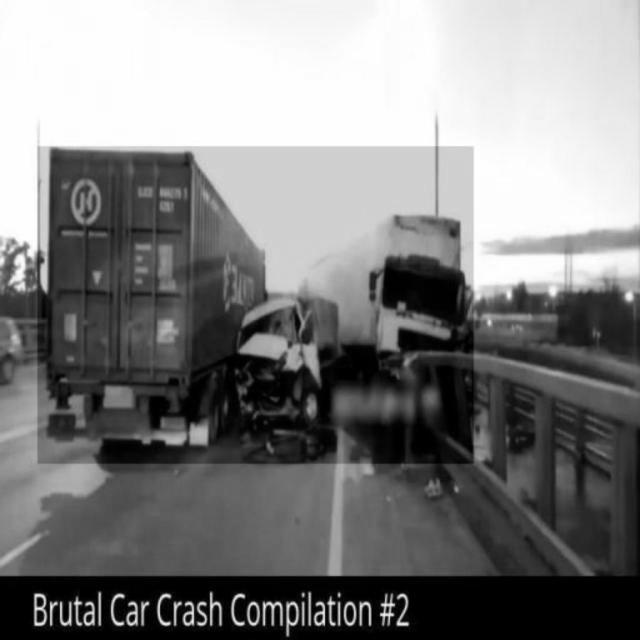accident: (38, 147, 474, 464)
